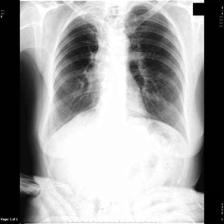tuberculosis: (41, 0, 196, 150)
